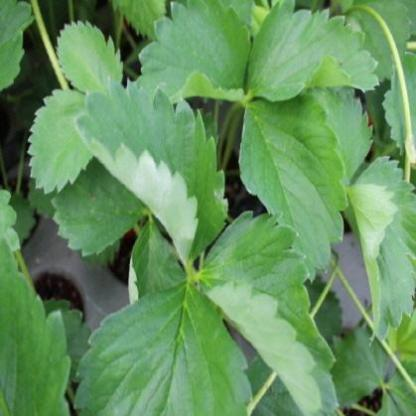Strawberry_Powdery_Mildew_Leaf: (74, 76, 230, 272), (347, 154, 415, 342)
